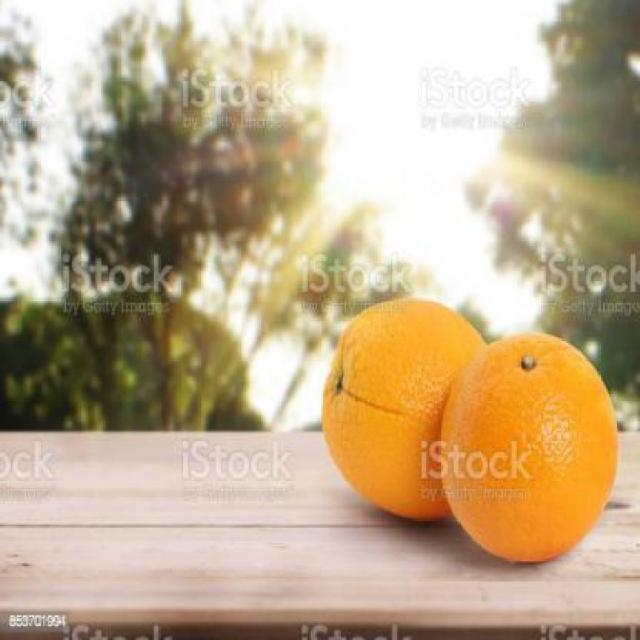Jeruk Sudah Matang: (438, 330, 622, 566), (323, 294, 491, 534)
